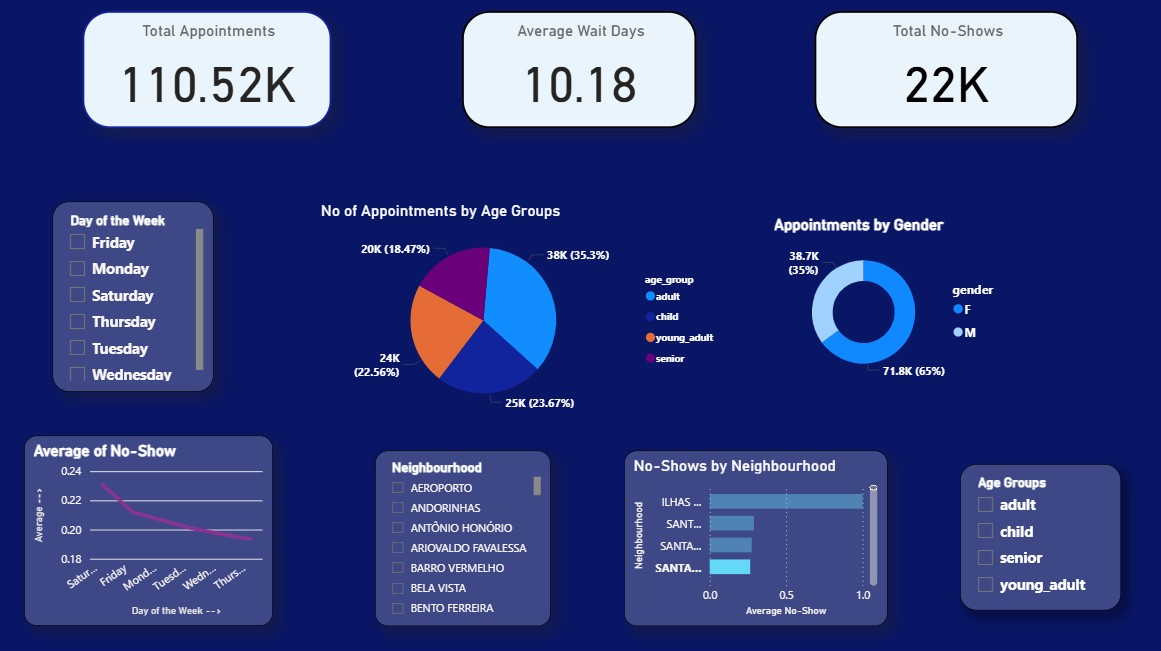

This screenshot's page, from the dashboard's own definition file:
{"tool":"powerbi","page":{"name":"Page 1","canvas":[1280,720],"ordinal":0},"visuals":[{"type":"card","title":"Total Appointments","fields":{"Values":["CountNonNull(appointments.appointmentid)"]},"box":[96,16,272,128],"z":0},{"type":"card","title":"Total No-Shows","fields":{"Values":["appointments.Total_No_Shows"]},"box":[896,16,288,128],"z":1000},{"type":"card","title":"Average Wait Days","fields":{"Values":["appointments.Avg_Days_Wait"]},"box":[512,16,256,128],"z":2000},{"type":"barChart","title":"No-Shows by Neighbourhood","fields":{"Category":["appointments.neighbourhood"],"Y":["Avg(appointments.no_show)"]},"box":[688,496,288,192],"z":3000},{"type":"pieChart","title":"No of Appointments by Age Groups","fields":{"Category":["appointments.age_group"],"Y":["CountNonNull(appointments.appointmentid)"]},"box":[352,224,448,240],"z":4000},{"type":"lineChart","title":"Average of No-Show","fields":{"Y":["Avg(appointments.no_show)"],"Category":["appointments.appointment_day"]},"box":[32,480,272,208],"z":5000},{"type":"donutChart","title":"Appointments by Gender","fields":{"Category":["appointments.gender"],"Y":["CountNonNull(appointments.appointmentid)"]},"box":[848,240,272,192],"z":6000},{"type":"slicer","fields":{"Values":["appointments.appointment_day"]},"box":[64,224,176,208],"z":7000},{"type":"slicer","fields":{"Values":["appointments.neighbourhood"]},"box":[416,496,192,192],"z":8000},{"type":"slicer","fields":{"Values":["appointments.age_group"]},"box":[1056,512,176,160],"z":9000}]}

Visuals, with their boxes in screenshot pixels (x1, y1, x2, y2), scaled from the page's 1280x720 canvas onto the 1161x651 screenshot:
"Total Appointments" card: {"x1": 87, "y1": 14, "x2": 334, "y2": 130}
"Total No-Shows" card: {"x1": 813, "y1": 14, "x2": 1074, "y2": 130}
"Average Wait Days" card: {"x1": 464, "y1": 14, "x2": 697, "y2": 130}
"No-Shows by Neighbourhood" barChart: {"x1": 624, "y1": 448, "x2": 885, "y2": 622}
"No of Appointments by Age Groups" pieChart: {"x1": 319, "y1": 203, "x2": 726, "y2": 420}
"Average of No-Show" lineChart: {"x1": 29, "y1": 434, "x2": 276, "y2": 622}
"Appointments by Gender" donutChart: {"x1": 769, "y1": 217, "x2": 1016, "y2": 391}
slicer - appointments.appointment_day: {"x1": 58, "y1": 203, "x2": 218, "y2": 391}
slicer - appointments.neighbourhood: {"x1": 377, "y1": 448, "x2": 551, "y2": 622}
slicer - appointments.age_group: {"x1": 958, "y1": 463, "x2": 1117, "y2": 608}
